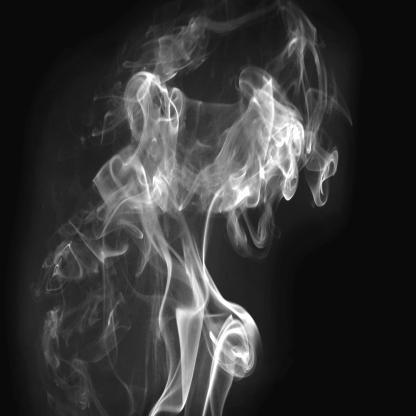smoke: (96, 21, 330, 214), (125, 217, 246, 415)
